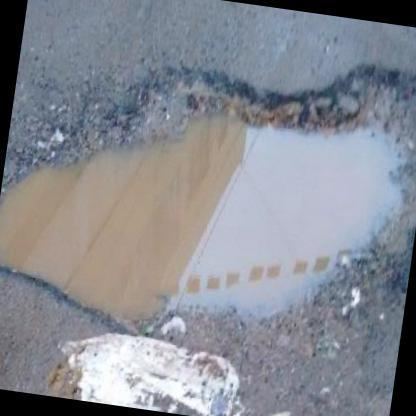pothole: (3, 60, 416, 354)
